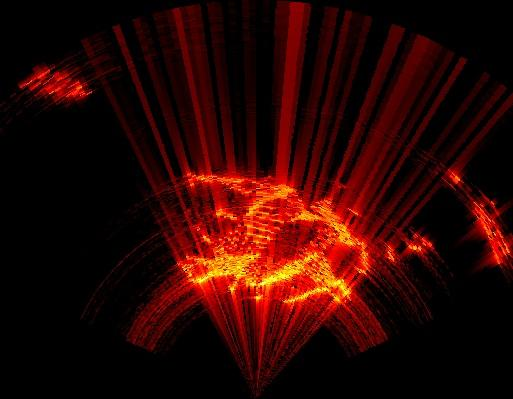shipwreck: (179, 176, 369, 302), (444, 173, 512, 270), (384, 233, 434, 263), (211, 207, 240, 229)
